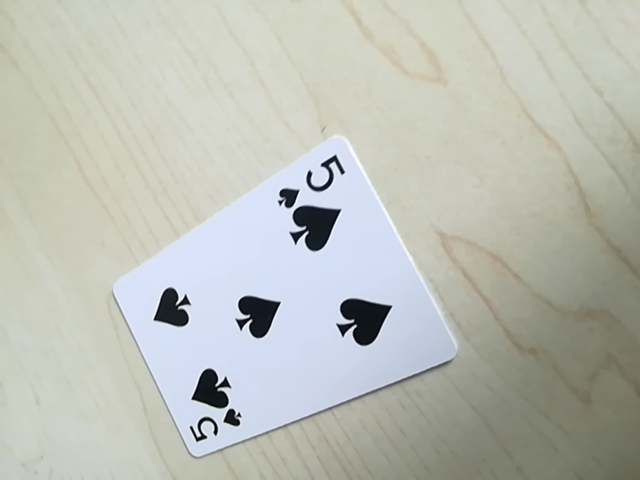ht 5: (276, 151, 350, 206), (178, 407, 248, 455)
